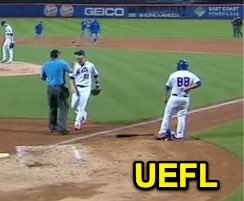Geico: (83, 4, 127, 18)
